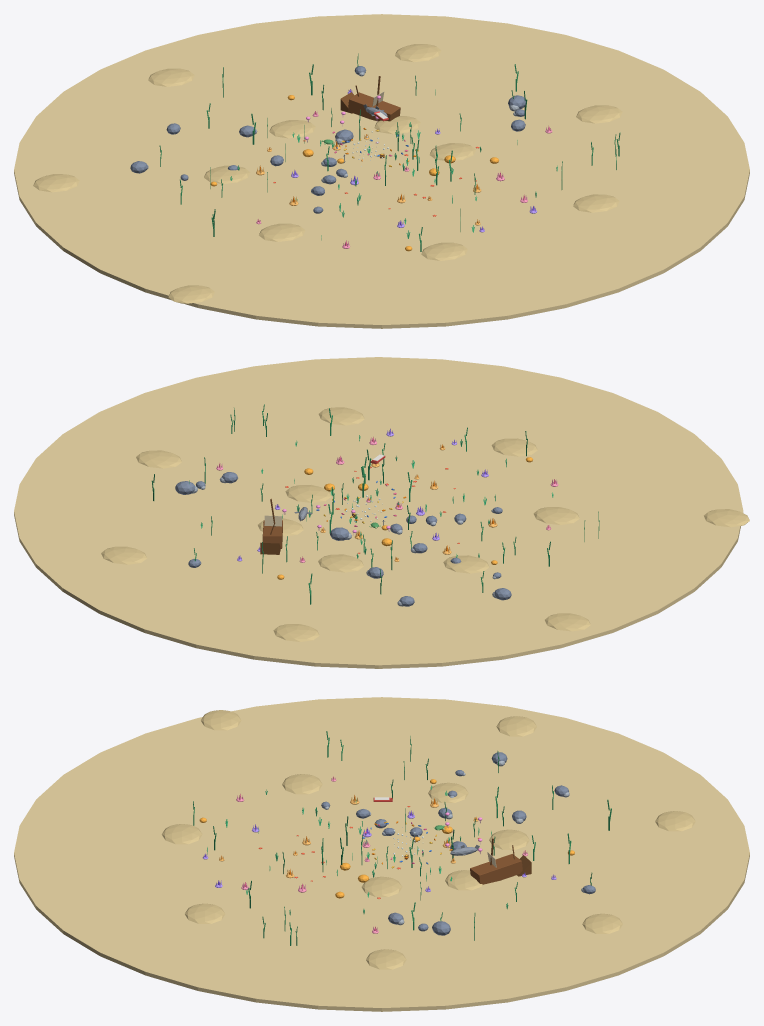
File: Scuba_World.fbx
The picture shows the model from 3 angles, top to bottom: view 1: azimuth 30°, elevation 25°; view 2: azimuth 150°, elevation 25°; view 3: azimuth 270°, elevation 25°; orthographic projection.
Visible parts, largest first — view 1: Seabed.001, Ship.001; view 2: Seabed.001, Ship.001; view 3: Seabed.001, Ship.001.
Boxes of the visible parts, x1,y1,x2,y2 form: Seabed.001: (14,14,749,328); Ship.001: (340,76,400,121); Seabed.001: (14,357,749,668); Ship.001: (260,498,282,554); Seabed.001: (14,697,749,1011); Ship.001: (470,838,531,884).
Bounding box in the file's own units: 180 × 15.58 × 180.
